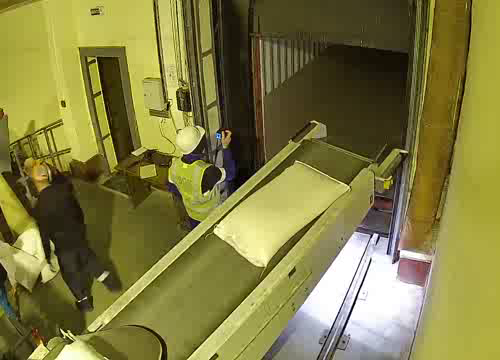bag: (212, 159, 353, 269), (47, 331, 115, 360)
